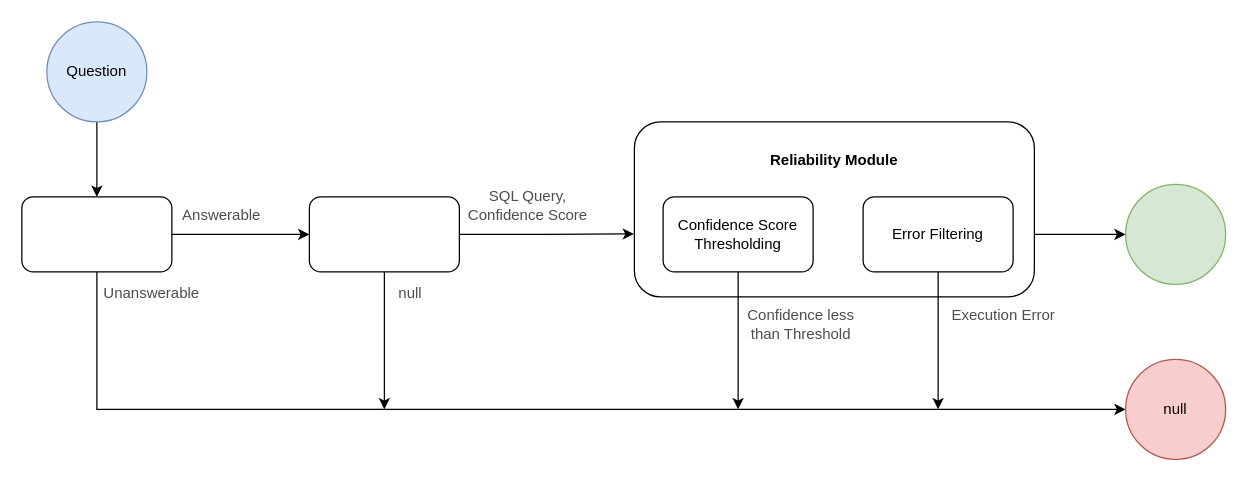
This 1248x481 diagram has some shape labels left out. The box of each missing label's shape, as (x1, y1, x2, y2) in pixels:
Abstention Module: (21, 196, 172, 272)
SQL Query: (1124, 183, 1226, 284)
Text-to-SQL Generation Module: (308, 196, 459, 272)
